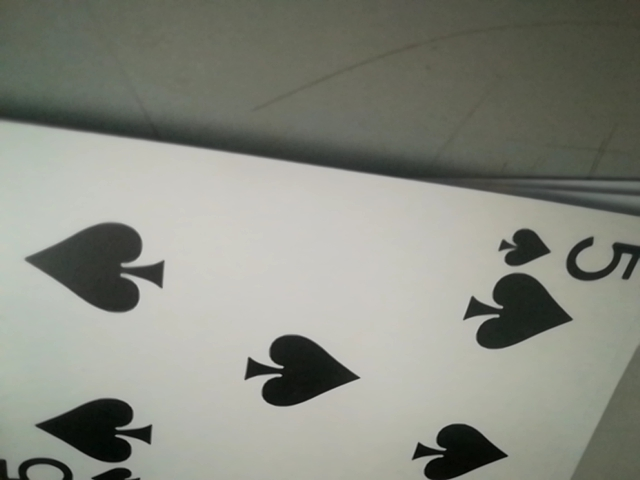ht 5: (494, 218, 640, 283)
